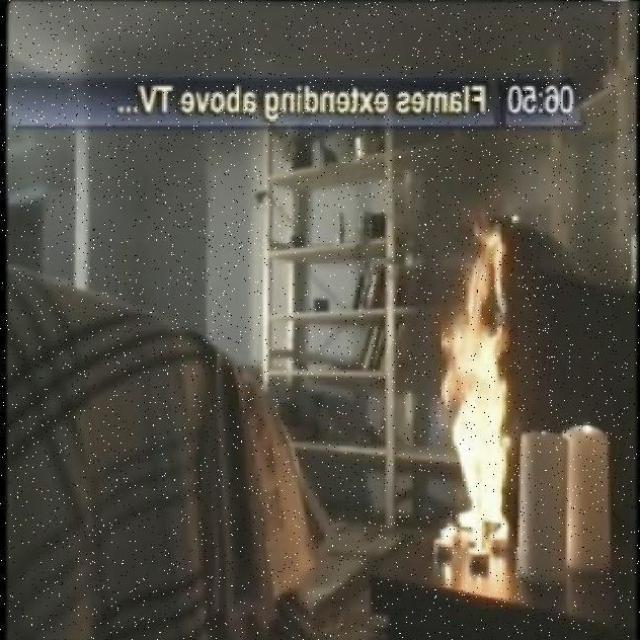smoke: (434, 233, 511, 552)
